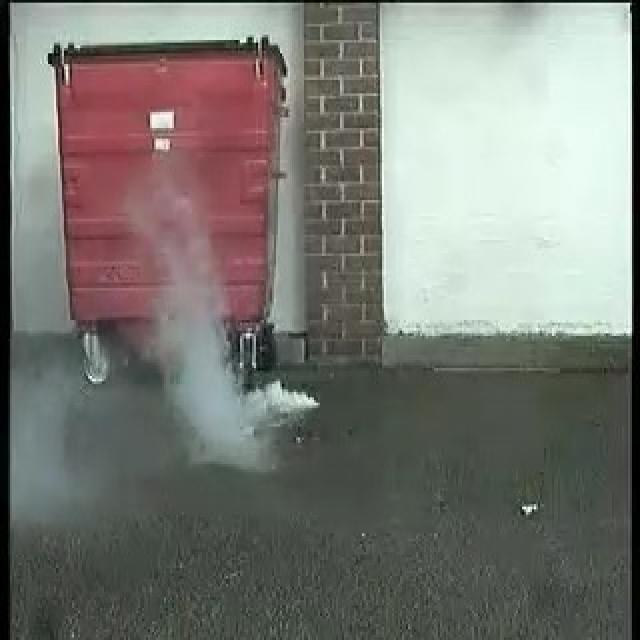smoke: (155, 207, 319, 439)
